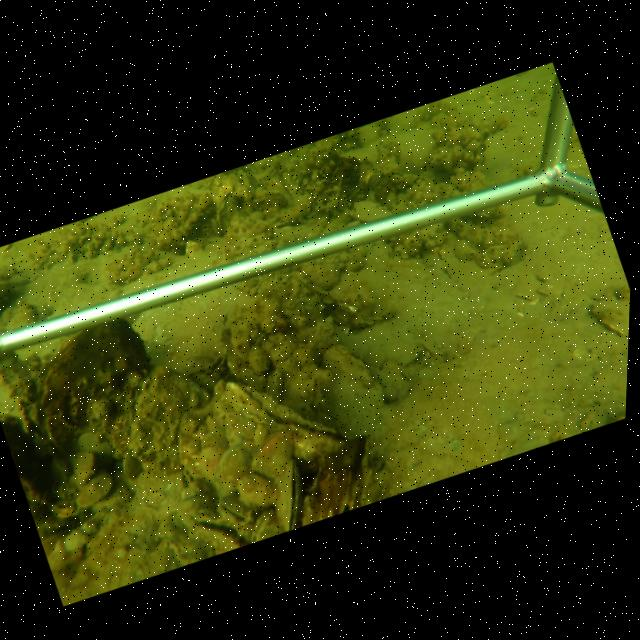Oyster-Closed: (227, 386, 350, 452), (322, 344, 386, 402), (248, 432, 298, 477), (274, 461, 303, 528), (216, 494, 256, 527), (216, 191, 243, 236), (250, 507, 284, 542), (348, 200, 393, 222), (69, 450, 97, 485), (233, 366, 267, 391), (121, 451, 141, 478), (384, 192, 399, 207)
Oyster-Indeterminate: (126, 368, 203, 469)
Oyster-Open: (184, 510, 249, 551), (195, 349, 229, 385)
